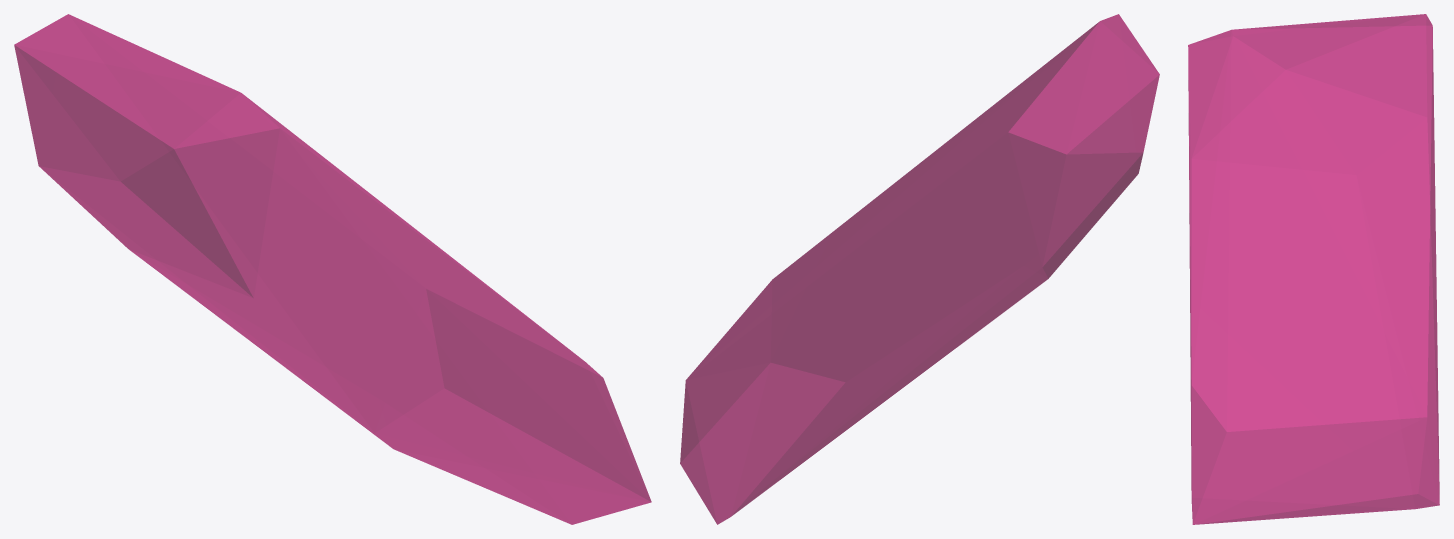
3 views of the same model, side by side, from view 1: azimuth 30°, elevation 25°; view 2: azimuth 150°, elevation 25°; view 3: azimuth 270°, elevation 25° (orthographic). The views are drawn at different scales.
Parts seen in each view (by area): view 1: Shape_IndexedFaceSet.076_Shape_IndexedFaceSet.9123; view 2: Shape_IndexedFaceSet.076_Shape_IndexedFaceSet.9123; view 3: Shape_IndexedFaceSet.076_Shape_IndexedFaceSet.9123.
Part boxes in pixels (x1,y1,x2,y2): Shape_IndexedFaceSet.076_Shape_IndexedFaceSet.9123: (14, 14, 651, 524); Shape_IndexedFaceSet.076_Shape_IndexedFaceSet.9123: (680, 14, 1159, 524); Shape_IndexedFaceSet.076_Shape_IndexedFaceSet.9123: (1188, 14, 1439, 524).
Size of the model in its own units: 0.2259 by 0.2318 by 0.1392.
